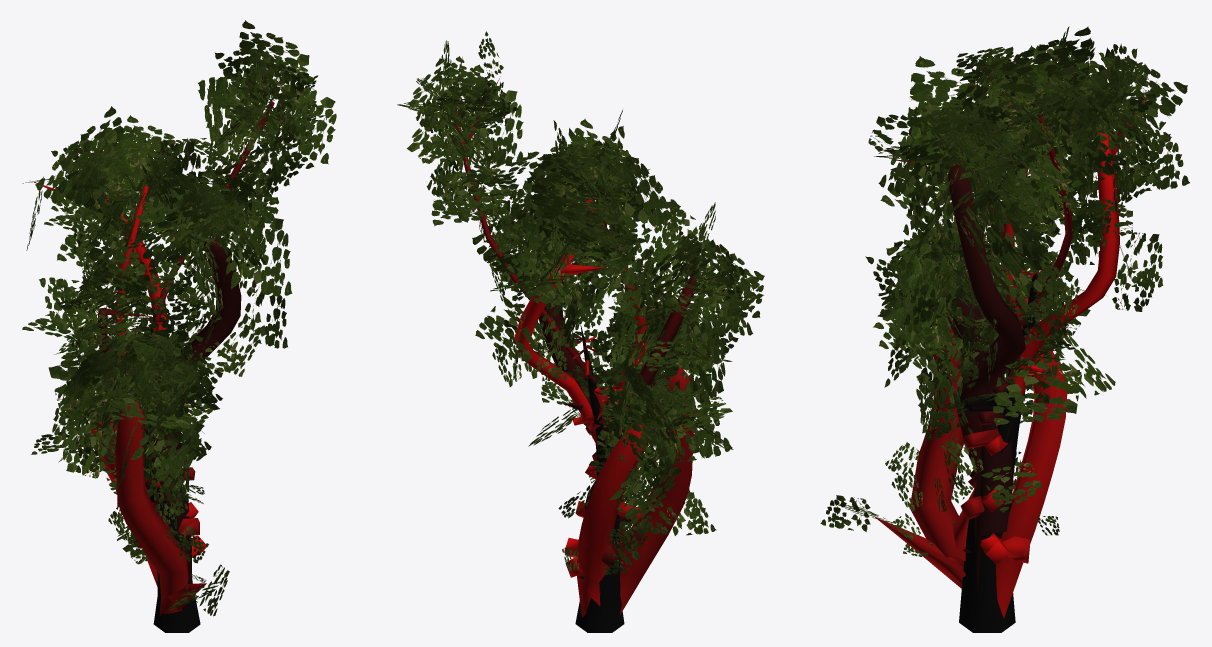
File: Tree_2.fbx
The picture shows the model from 3 angles, left to right: view 1: azimuth 30°, elevation 25°; view 2: azimuth 150°, elevation 25°; view 3: azimuth 270°, elevation 25°; orthographic projection. The views are drawn at different scales.
Visible parts, largest first — view 1: Tree_13; view 2: Tree_13; view 3: Tree_13.
Boxes of the visible parts, <box> form: Tree_13: <box>22,20,336,632</box>; Tree_13: <box>397,31,764,632</box>; Tree_13: <box>820,26,1189,632</box>.
Size of the model in its own units: 468 by 705 by 363.
